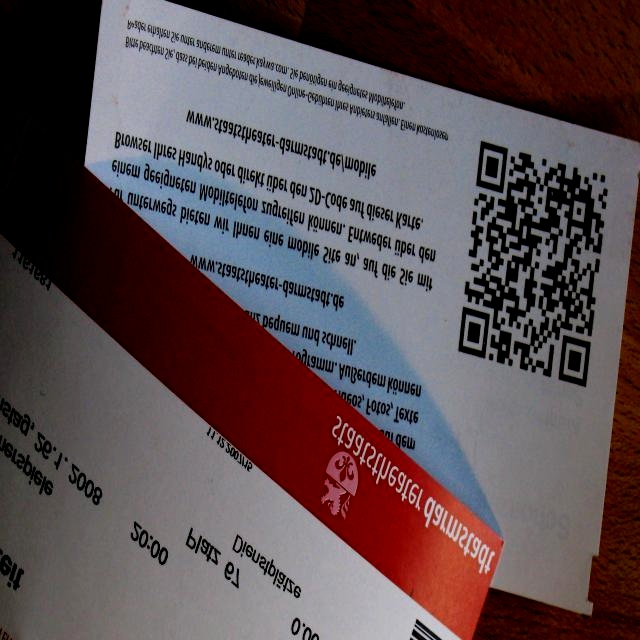qr-code: (459, 142, 610, 386)
